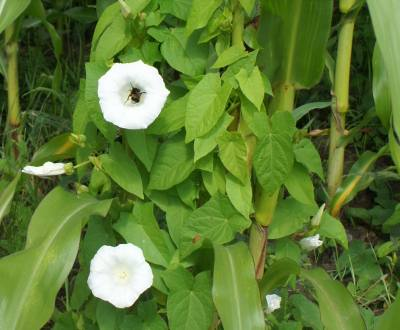haagwinde: (182, 65, 251, 180), (89, 52, 175, 134), (173, 179, 249, 261), (85, 241, 160, 312), (109, 201, 173, 273), (249, 113, 297, 204), (90, 140, 146, 201), (15, 149, 81, 189)
